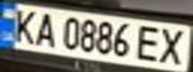0: (57, 14, 81, 52)
6: (112, 20, 136, 58)
8: (78, 16, 100, 54), (93, 19, 115, 56)
A: (30, 10, 60, 47)
E: (133, 22, 166, 63)
K: (6, 6, 42, 45)
X: (154, 25, 190, 65)
